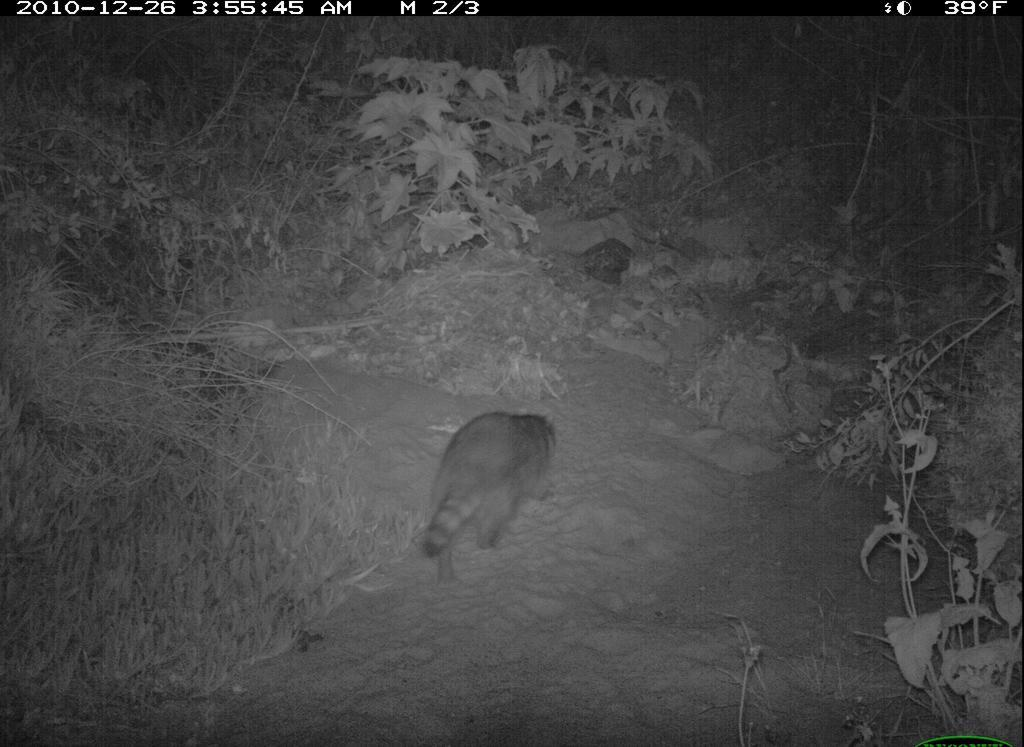raccoon: (422, 401, 565, 573)
